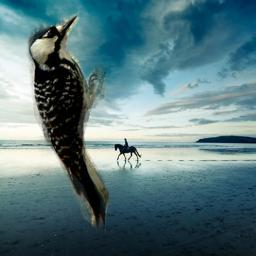Woodpecker: (18, 8, 126, 245)
